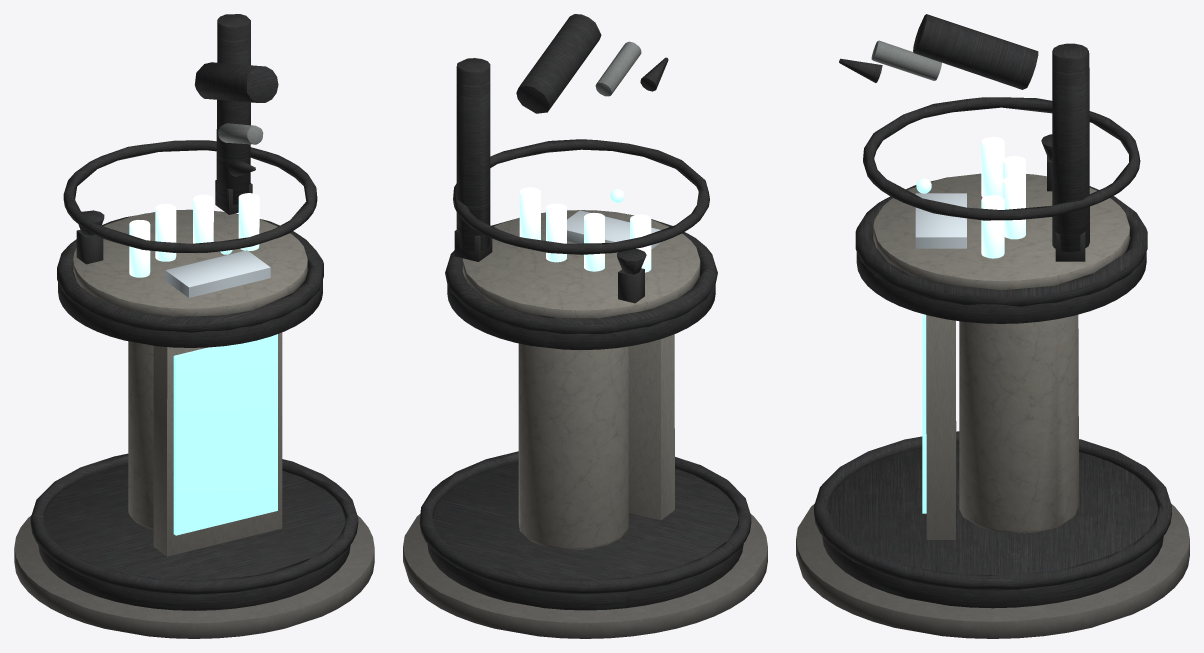
The model's file is hp_room_l04_p09.glb.
The picture shows the model from 3 angles, left to right: view 1: azimuth 30°, elevation 25°; view 2: azimuth 150°, elevation 25°; view 3: azimuth 270°, elevation 25°; orthographic projection. The views are drawn at different scales.
Visible parts, largest first — view 1: room_l04_p09; view 2: room_l04_p09; view 3: room_l04_p09.
Part boxes in pixels (x1,y1,x2,y2): room_l04_p09: (14,14,374,638); room_l04_p09: (403,14,767,638); room_l04_p09: (796,14,1189,638).
Size of the model in its own units: 0.9141 by 1.43 by 0.9141.
9 materials, 5 textured.
